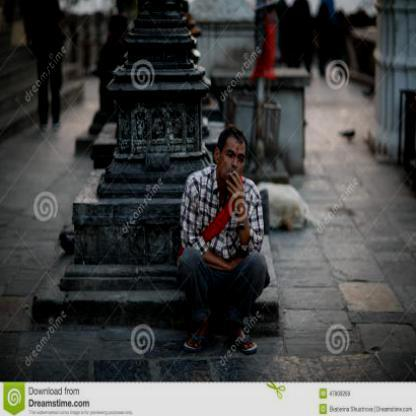person: (174, 132, 270, 354)
